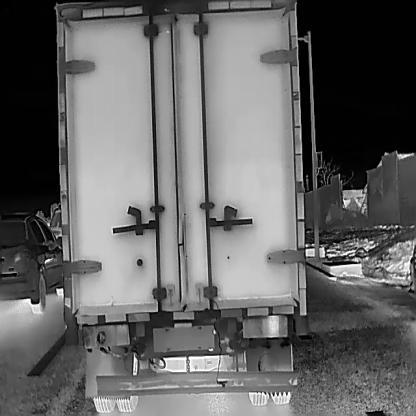car: (51, 1, 308, 414), (0, 214, 69, 314)
